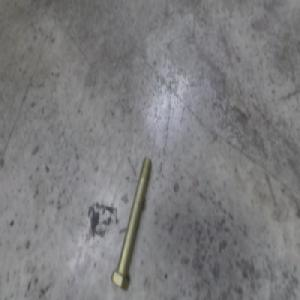Bolt: (117, 160, 152, 274)
